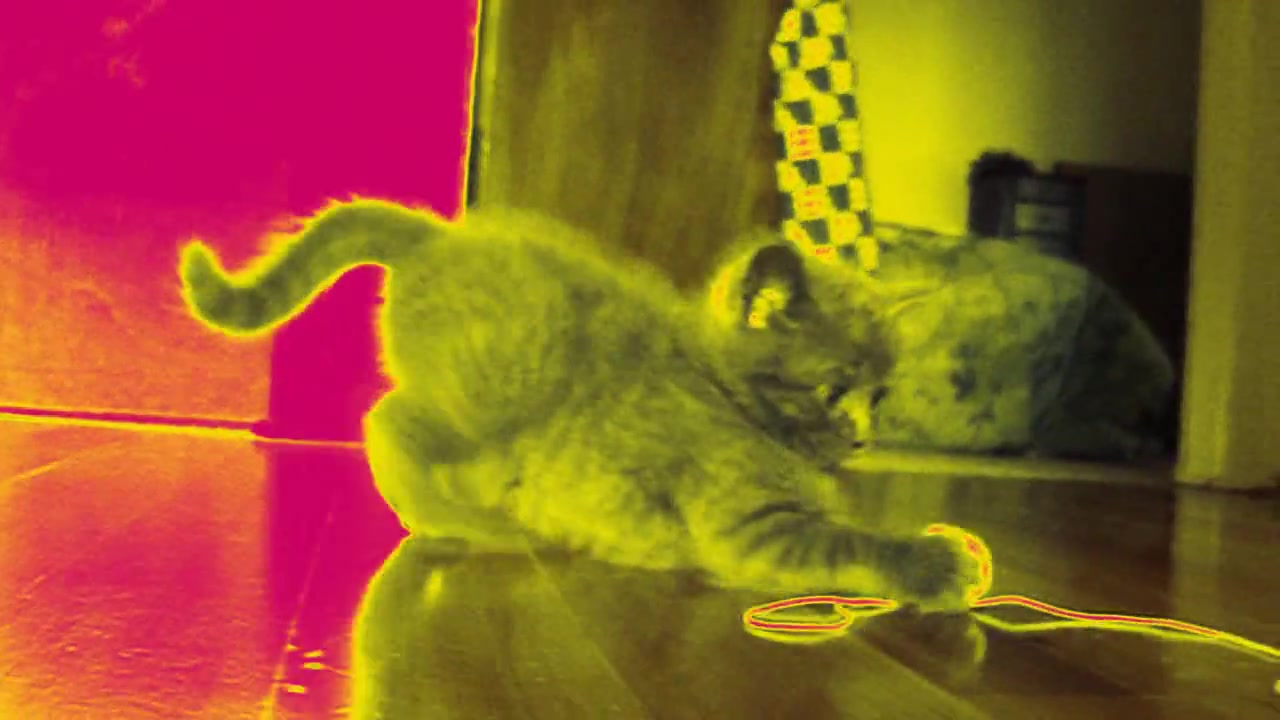cat: (173, 203, 987, 620)
